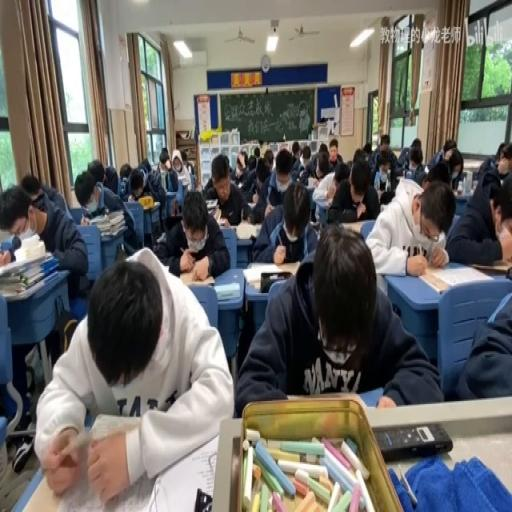calculator: (422, 265, 494, 290), (245, 259, 298, 284), (178, 267, 213, 286), (312, 196, 329, 225), (340, 218, 370, 234), (214, 282, 240, 300), (234, 222, 260, 240), (138, 196, 158, 209), (395, 175, 418, 186), (86, 213, 106, 225), (218, 219, 236, 230), (245, 277, 261, 289), (204, 196, 218, 209), (176, 171, 188, 186), (213, 205, 222, 222), (305, 176, 317, 188), (243, 202, 256, 213), (150, 160, 159, 174), (155, 232, 165, 243)
paper: (35, 248, 234, 500), (234, 222, 436, 417), (0, 176, 87, 308), (365, 176, 452, 274), (453, 277, 512, 401), (445, 159, 512, 267), (154, 186, 228, 280), (75, 166, 142, 262), (250, 176, 318, 262), (326, 154, 381, 223), (368, 132, 398, 186), (202, 151, 234, 192), (300, 145, 333, 182), (396, 136, 422, 176), (235, 152, 258, 194), (154, 147, 176, 189), (423, 160, 451, 188), (274, 148, 293, 186), (21, 172, 43, 203), (0, 233, 21, 263), (446, 148, 462, 183), (324, 137, 342, 165), (88, 156, 104, 186), (118, 160, 132, 180), (256, 165, 269, 186), (378, 189, 394, 205), (494, 141, 506, 161), (138, 158, 151, 176), (352, 148, 366, 163), (263, 146, 274, 165), (290, 140, 300, 160), (379, 136, 389, 150), (362, 142, 372, 155), (298, 168, 308, 180), (181, 149, 188, 165), (302, 155, 310, 165), (253, 145, 259, 158), (186, 165, 192, 173)
person: (373, 422, 452, 461), (193, 488, 211, 509), (309, 219, 319, 229), (172, 199, 178, 215)
